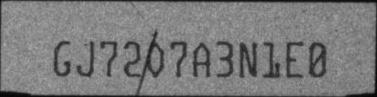0: (309, 39, 328, 78)
1: (262, 40, 282, 79)
2: (123, 41, 142, 77)
3: (215, 39, 234, 77)
7: (100, 41, 118, 77), (170, 40, 187, 78)
A: (192, 41, 213, 78)
E: (285, 39, 305, 77)
G: (53, 40, 73, 76)
J: (77, 40, 95, 77)
N: (239, 40, 259, 78)
O: (146, 42, 165, 77)
